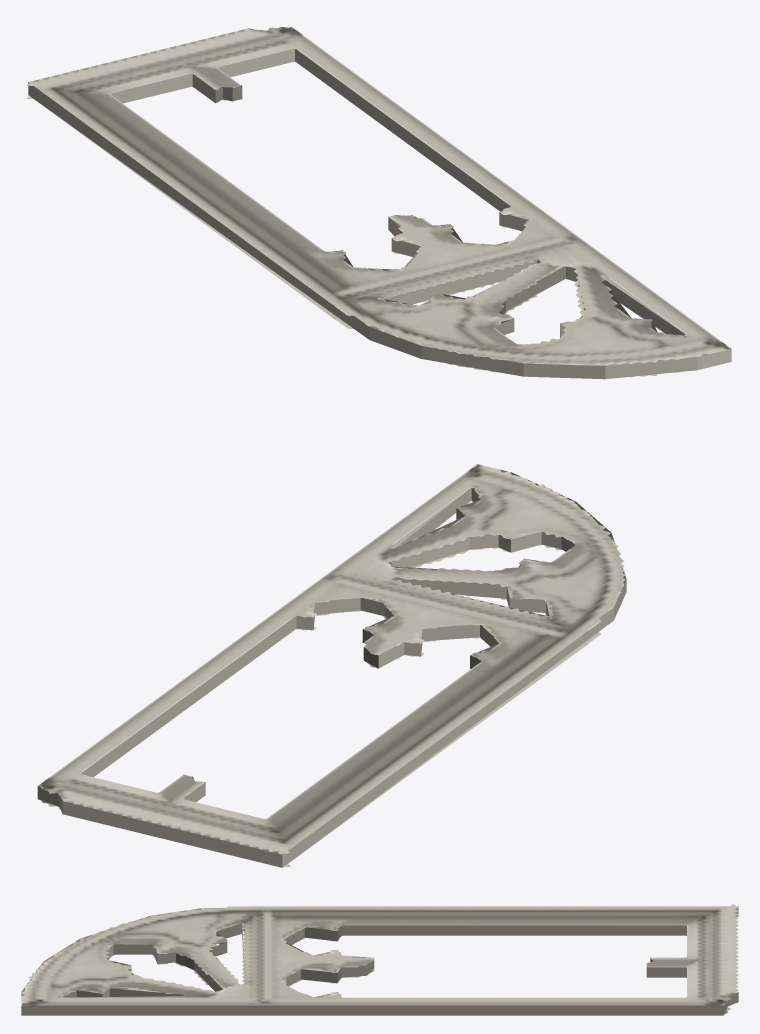
The model's file is pz_native_fixtures_windows_church_101_frame.obj.
3 views of the same model, one above another, from view 1: azimuth 30°, elevation 25°; view 2: azimuth 150°, elevation 25°; view 3: azimuth 270°, elevation 25° (orthographic). The views are drawn at different scales.
Visible parts, largest first — view 1: pz_native_fixtures_windows_church_101_frame; view 2: pz_native_fixtures_windows_church_101_frame; view 3: pz_native_fixtures_windows_church_101_frame.
Boxes of the visible parts, x1=… form: pz_native_fixtures_windows_church_101_frame: x1=27, y1=27, x2=731, y2=379; pz_native_fixtures_windows_church_101_frame: x1=37, y1=464, x2=626, y2=867; pz_native_fixtures_windows_church_101_frame: x1=21, y1=904, x2=738, y2=1015.
Bounding box in the file's own units: 0.875 × 0.04 × 2.54.
1 material, 1 textured.
